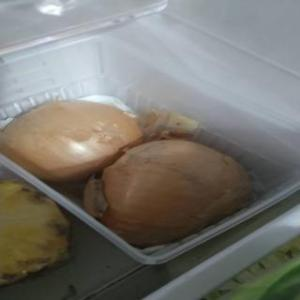onion: (88, 138, 264, 246), (0, 100, 154, 182)
